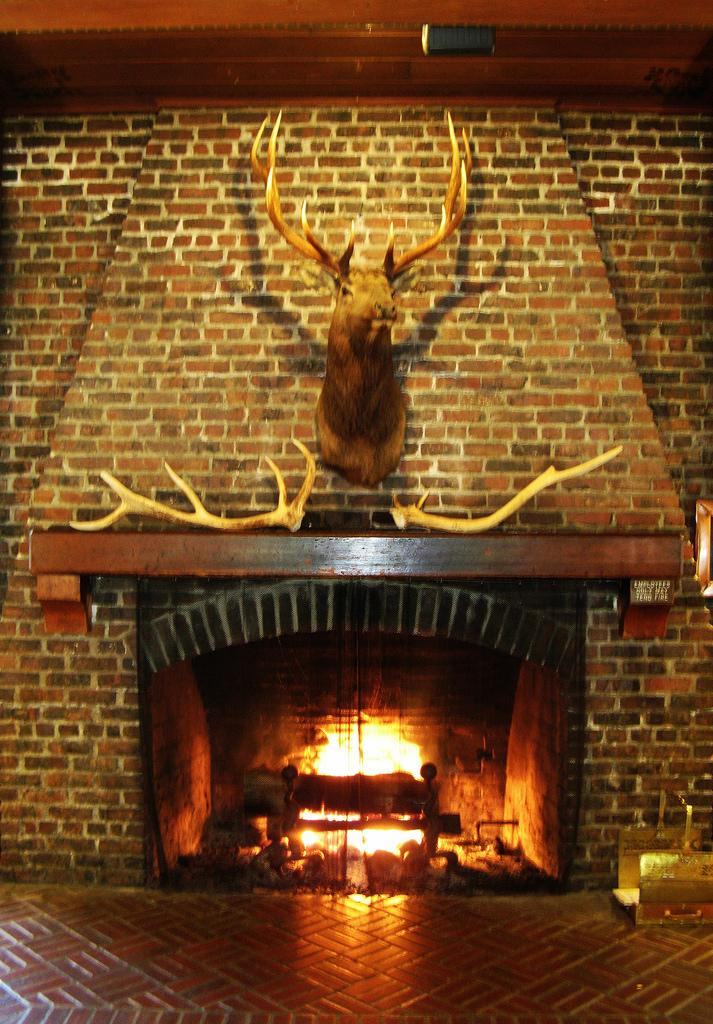fire: (330, 728, 412, 778)
